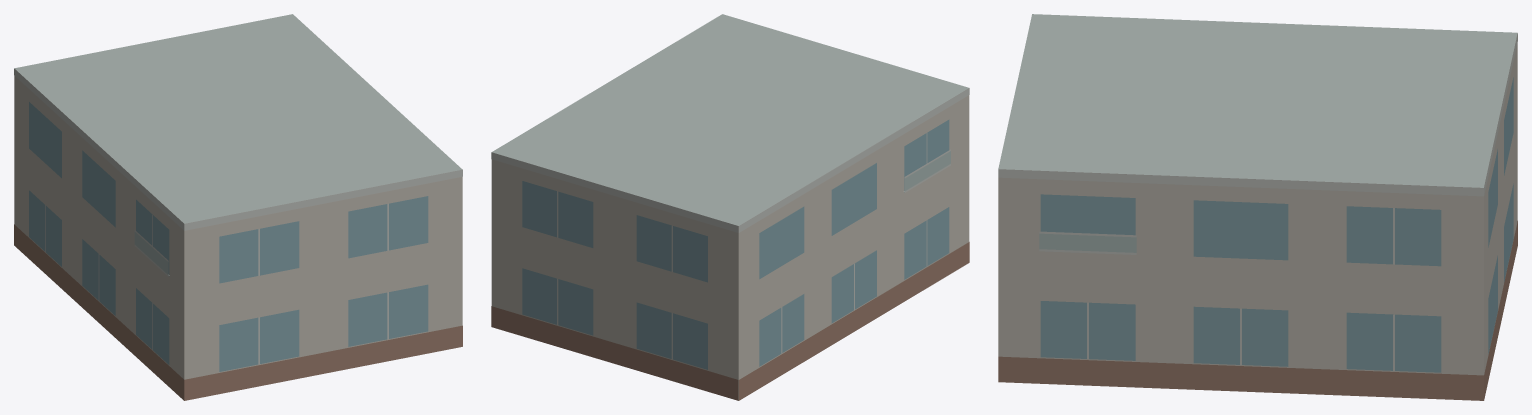
Rendered from survey-upis-32821864.glb.
3 views of the same model, side by side, from view 1: azimuth 30°, elevation 25°; view 2: azimuth 150°, elevation 25°; view 3: azimuth 270°, elevation 25° (orthographic). The views are drawn at different scales.
Parts seen in each view (by area): view 1: survey-upis-32821864.tmp; view 2: survey-upis-32821864.tmp; view 3: survey-upis-32821864.tmp.
Part boxes in pixels (left/top/right/bottom): survey-upis-32821864.tmp: left=14, top=14, right=462, bottom=400; survey-upis-32821864.tmp: left=491, top=14, right=969, bottom=400; survey-upis-32821864.tmp: left=998, top=14, right=1517, bottom=400.
Size of the model in its own units: 10.69 by 6.1 by 13.5.
